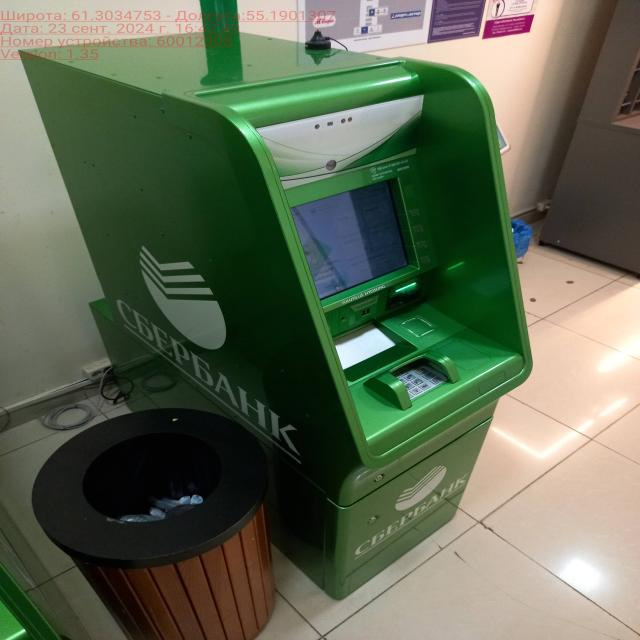bank: (19, 26, 532, 602)
